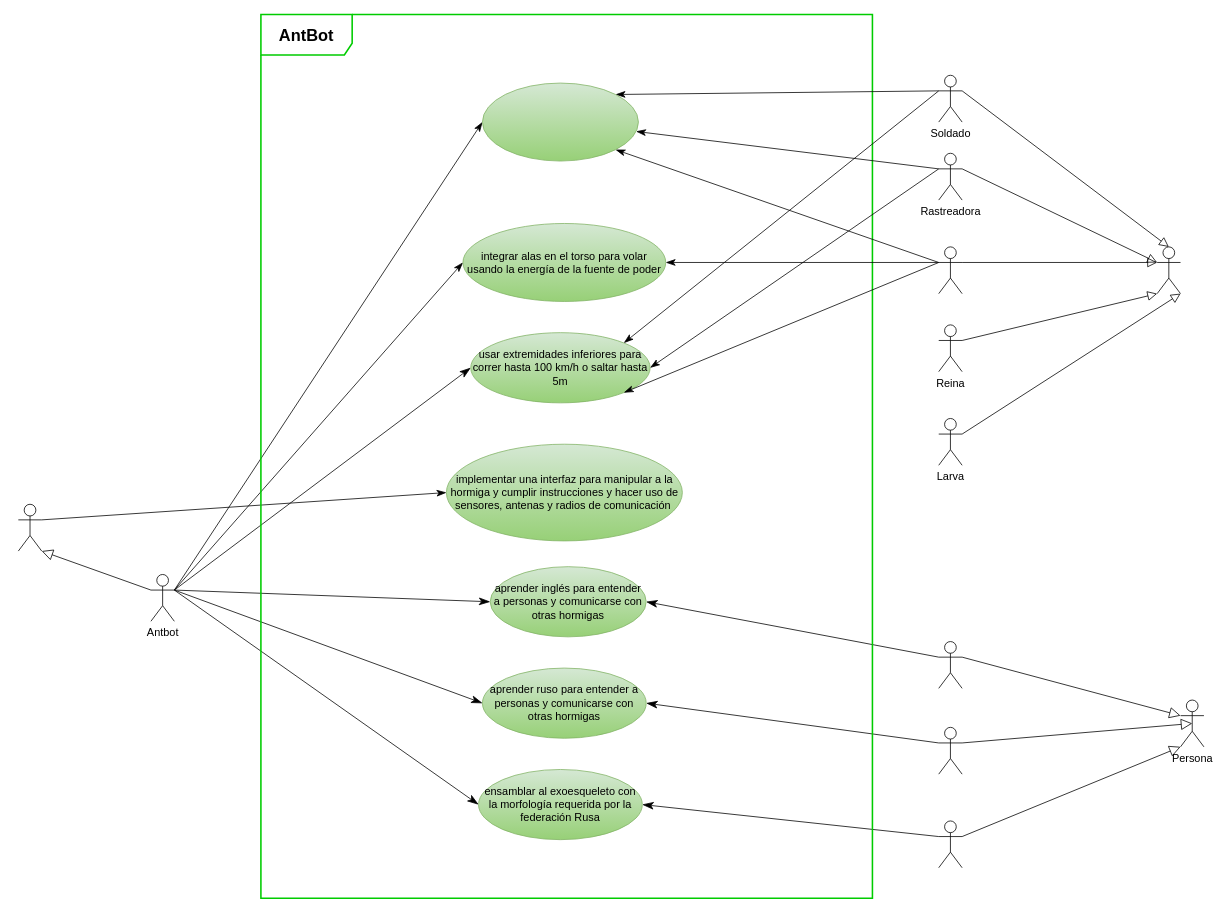
The diagram is 1226 pixels wide and 912 high, and some of its shapes have lost their labels. Here are the shapes that lost their labels. From the top down, the centre of each, then its label:
At pixel 560 121: "potencializar fuerza, habilidades y movimientos".
At pixel 950 270: "Zangano".
At pixel 1168 270: "Hormiga".
At pixel 30 527: "IABOT".
At pixel 950 664: "ExpertoInglés".
At pixel 950 750: "ExpertoRuso".
At pixel 950 844: "Mecatronico".
